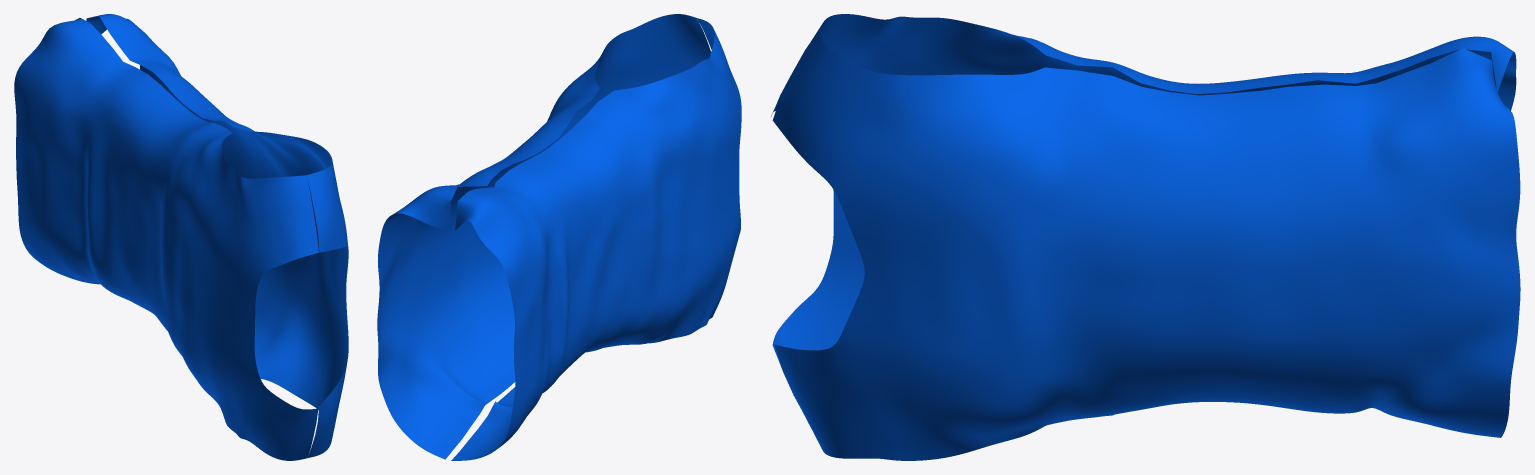
Rendered from en39CMboy66CM_TShirtModel.glb.
3 renders of one model, left to right at view 1: azimuth 30°, elevation 25°; view 2: azimuth 150°, elevation 25°; view 3: azimuth 270°, elevation 25°, orthographic. The views are drawn at different scales.
Visible parts, largest first — view 1: Plane; view 2: Plane; view 3: Plane.
Part boxes in pixels (x1,y1,x2,y2): Plane: [14, 14, 348, 460]; Plane: [377, 14, 741, 460]; Plane: [771, 14, 1520, 460].
Size of the model in its own units: 0.2213 by 0.4198 by 0.6904.
